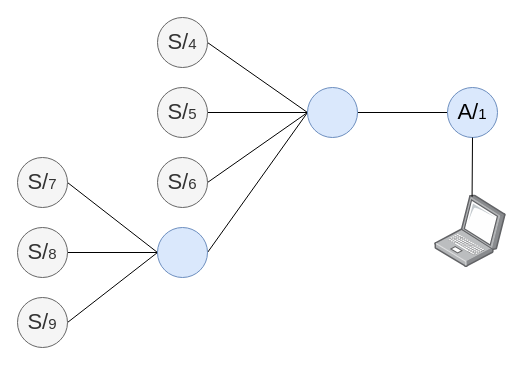
The diagram is 524 pixels wide and 365 high, and some of its shapes have lost their labels. The centre of each missing label's shape, as x and y in pixels:
"A/ 2" belongs at point 332,112.
"A/ 3" belongs at point 182,252.
